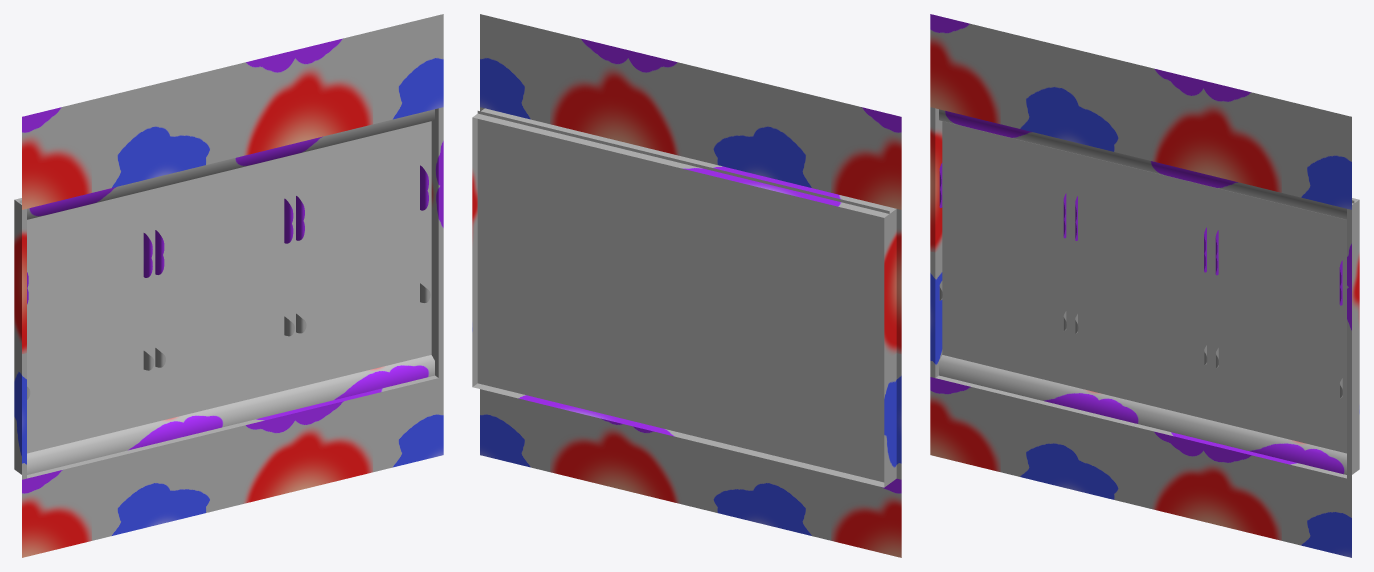
File: SM_SS02_Window_3.fbx
3 views of the same model, side by side, from view 1: azimuth 30°, elevation 25°; view 2: azimuth 150°, elevation 25°; view 3: azimuth 330°, elevation 25° (orthographic).
Visible parts, largest first — view 1: SM_SS02_Window_3; view 2: SM_SS02_Window_3; view 3: SM_SS02_Window_3.
Part boxes in pixels (left/top/right/bottom): SM_SS02_Window_3: left=14, top=14, right=443, bottom=557; SM_SS02_Window_3: left=472, top=14, right=901, bottom=557; SM_SS02_Window_3: left=930, top=14, right=1359, bottom=557.
Bounding box in the file's own units: 300 × 300 × 15.35.
